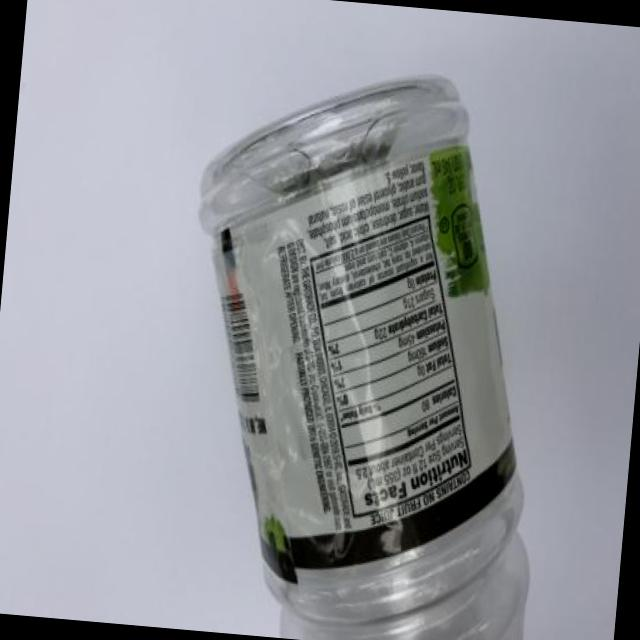Recycle: (155, 45, 576, 640)
